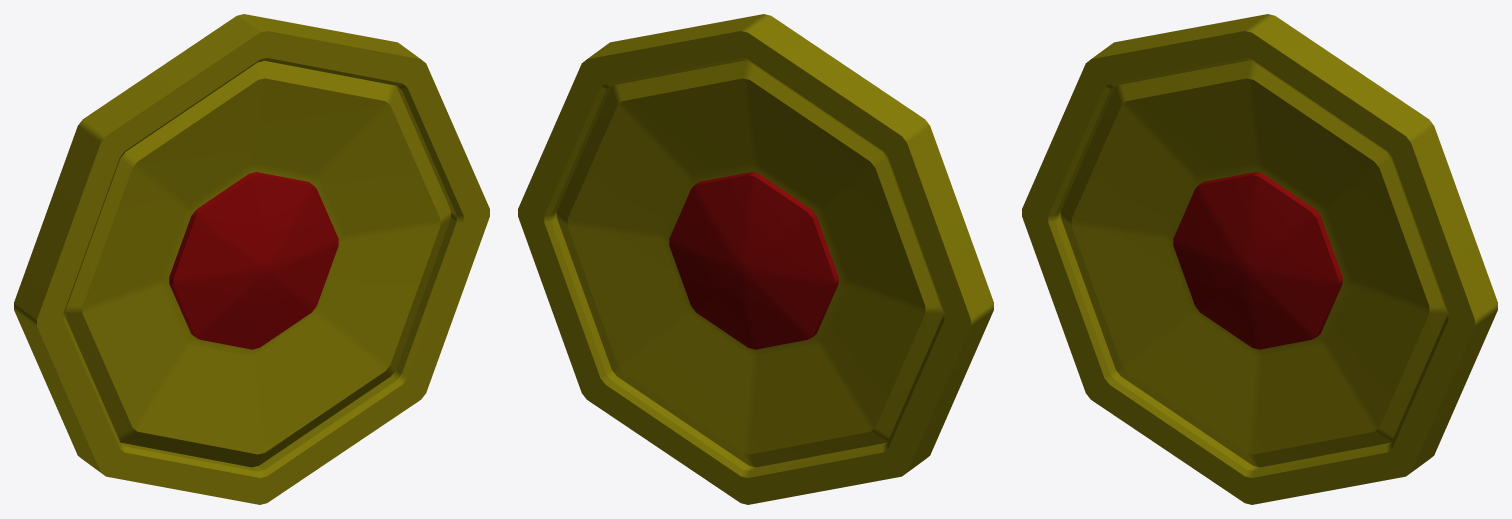
Rendered from coin.fbx.
3 views of the same model, side by side, from view 1: azimuth 30°, elevation 25°; view 2: azimuth 150°, elevation 25°; view 3: azimuth 330°, elevation 25° (orthographic).
Visible parts, largest first — view 1: coin; view 2: coin; view 3: coin.
Part boxes in pixels (bbox=[...]): coin: bbox=[14, 14, 489, 504]; coin: bbox=[518, 14, 993, 504]; coin: bbox=[1022, 14, 1497, 504].
Size of the model in its own units: 1.99 by 1.98 by 0.1977.
